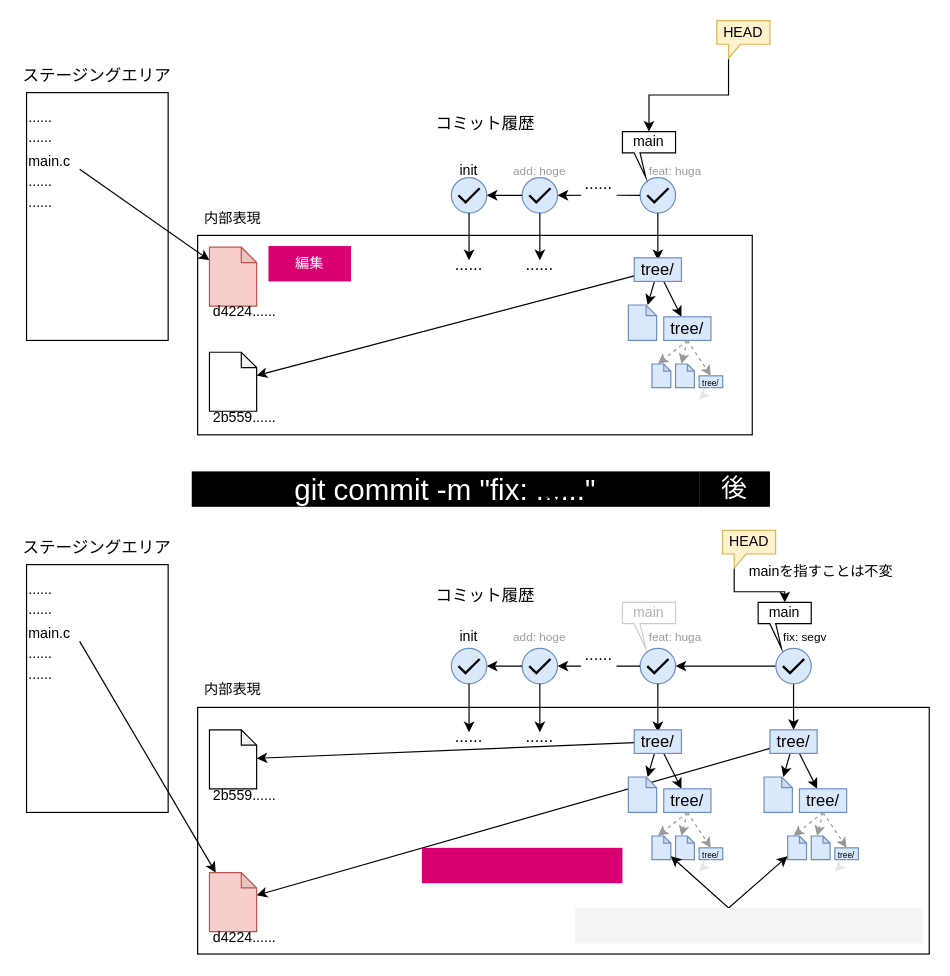
Image size: 950x976. Some labels were removed from this diagram. The centre of each missing label's shape, as x and y in pixels:
"本来は変更がない場合は同じオブジェクトを指す" goes at [748,925].
"編集を含んだコミットが生成" goes at [521,865].
